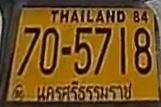0: (40, 27, 58, 74)
1: (120, 27, 125, 74)
5: (73, 26, 91, 74)
7: (18, 27, 40, 75), (93, 27, 111, 74)
8: (134, 27, 150, 73)
NST: (34, 79, 135, 102)
